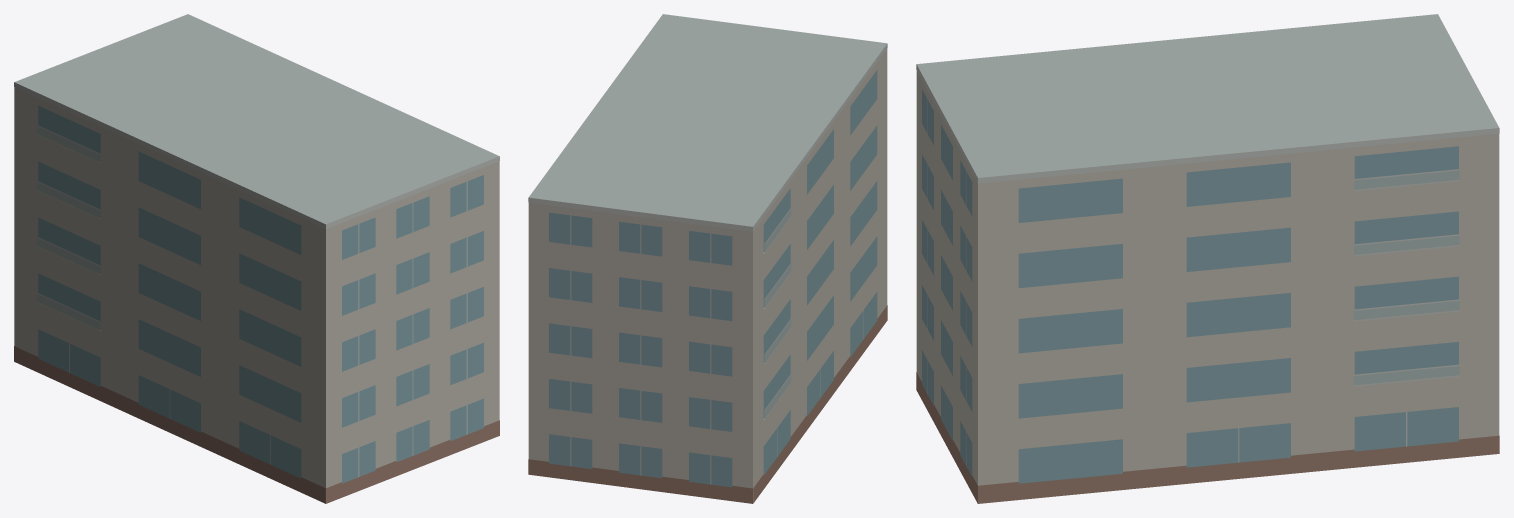
The model's file is survey-upis-32961992.glb.
3 views of the same model, side by side, from view 1: azimuth 30°, elevation 25°; view 2: azimuth 150°, elevation 25°; view 3: azimuth 270°, elevation 25° (orthographic). The views are drawn at different scales.
Visible parts, largest first — view 1: survey-upis-32961992.tmp; view 2: survey-upis-32961992.tmp; view 3: survey-upis-32961992.tmp.
Boxes of the visible parts, bbox=[...] form: survey-upis-32961992.tmp: bbox=[14, 14, 499, 503]; survey-upis-32961992.tmp: bbox=[528, 14, 887, 503]; survey-upis-32961992.tmp: bbox=[916, 14, 1499, 503].
Size of the model in its own units: 15.12 by 14 by 22.71.
